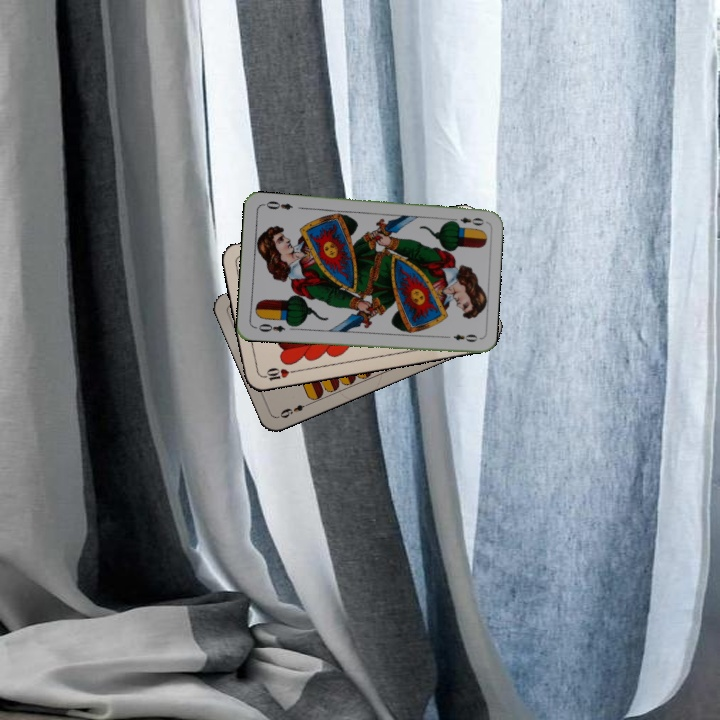E9: (276, 399, 313, 421)
EO: (447, 213, 487, 228), (255, 319, 287, 335)
H10: (258, 364, 298, 383)
